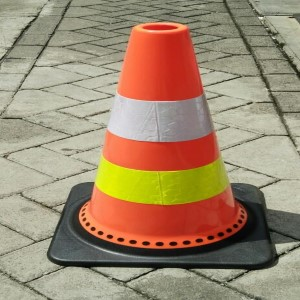traffic cone: (47, 21, 273, 269)
